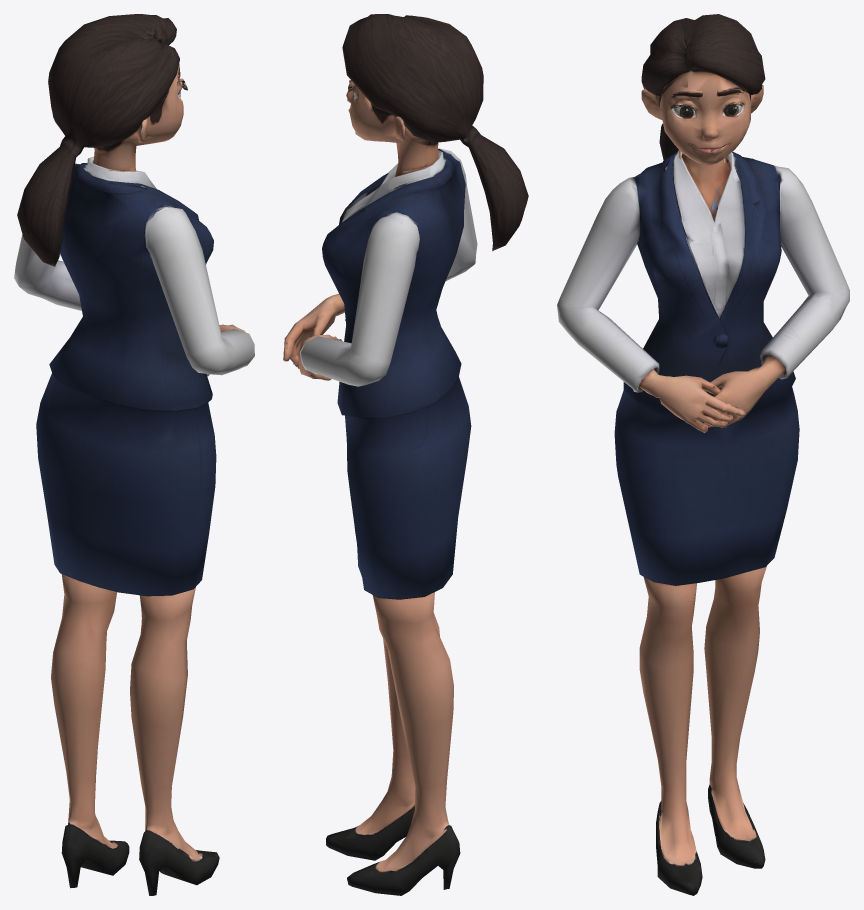
File: tripo_convert_8a8e449e-310e-4977-a37d-bd7ec34ca9b8.fbx
The picture shows the model from 3 angles, left to right: view 1: azimuth 30°, elevation 25°; view 2: azimuth 150°, elevation 25°; view 3: azimuth 270°, elevation 25°; orthographic projection. The views are drawn at different scales.
Visible parts, largest first — view 1: tripo_node_8a8e449e; view 2: tripo_node_8a8e449e; view 3: tripo_node_8a8e449e.
Boxes of the visible parts, x1,y1,x2,y2 form: tripo_node_8a8e449e: [14, 14, 254, 895]; tripo_node_8a8e449e: [283, 14, 528, 895]; tripo_node_8a8e449e: [557, 14, 849, 895].
Size of the model in its own units: 0.2754 by 0.998 by 0.3184.
1 material, 1 textured.
